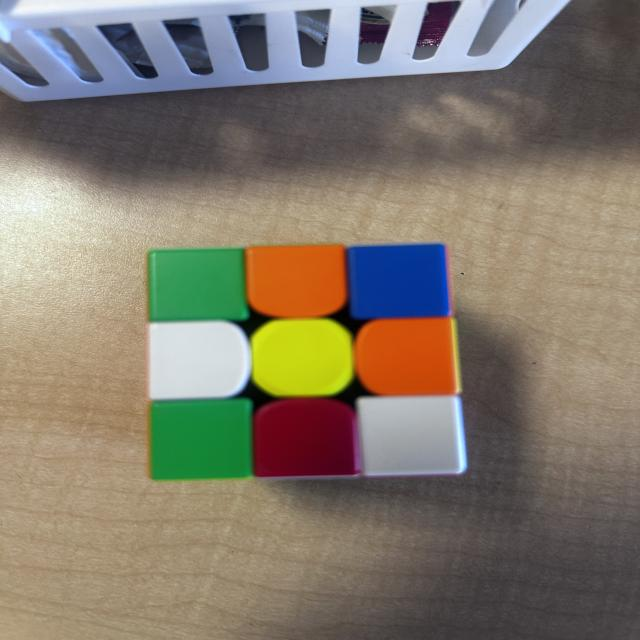sticker: (252, 396, 364, 481), (356, 395, 467, 479), (149, 398, 256, 482), (354, 318, 462, 398), (249, 319, 356, 399), (347, 243, 453, 323), (148, 321, 252, 402), (147, 247, 251, 324), (245, 245, 351, 320)
